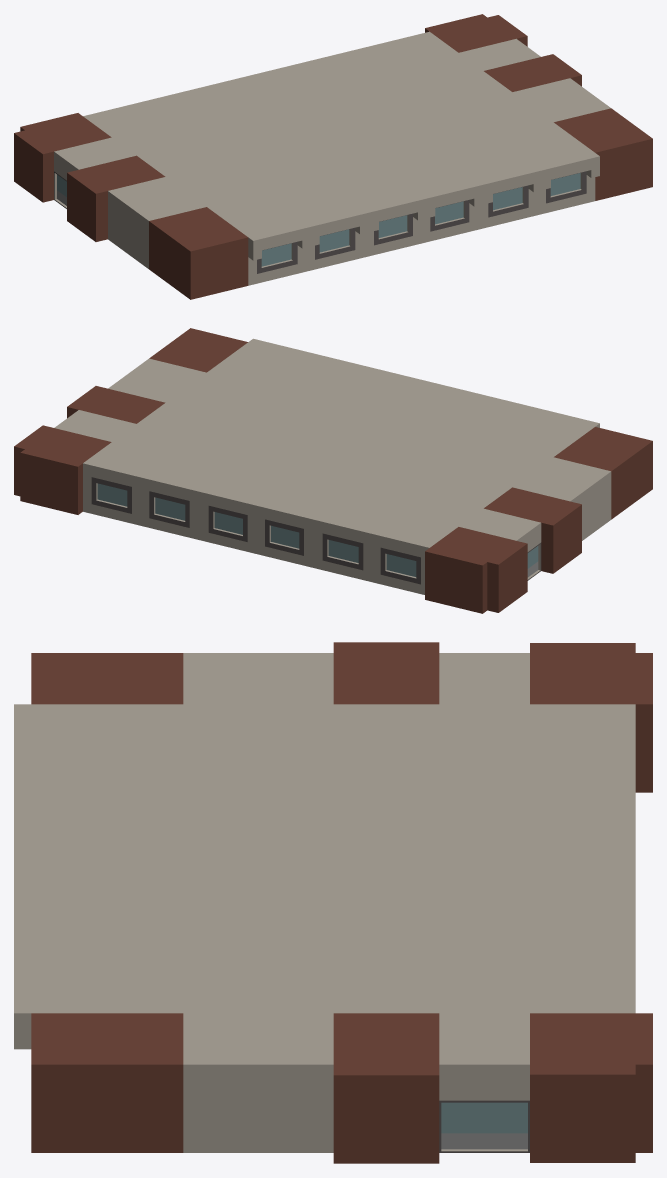
File: SAL_Base.fbx
The picture shows the model from 3 angles, top to bottom: view 1: azimuth 30°, elevation 25°; view 2: azimuth 150°, elevation 25°; view 3: azimuth 270°, elevation 25°; orthographic projection. The views are drawn at different scales.
Visible parts, largest first — view 1: SAL_Base; view 2: SAL_Base; view 3: SAL_Base.
Boxes of the visible parts, x1=… form: SAL_Base: x1=14, y1=14, x2=652, y2=299; SAL_Base: x1=14, y1=328, x2=652, y2=613; SAL_Base: x1=14, y1=642, x2=652, y2=1163.
Size of the model in its own units: 5258 by 500 by 3279.
